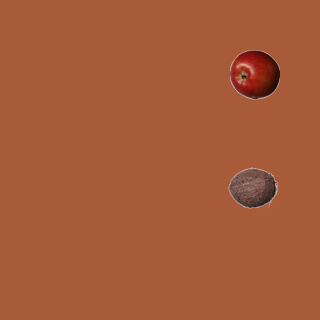Apple Braeburn: (229, 49, 279, 99)
Cocos: (227, 162, 277, 212)
